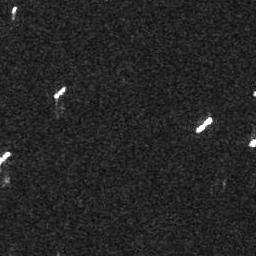ship: (195, 115, 213, 134), (52, 84, 66, 99), (11, 5, 18, 15)
